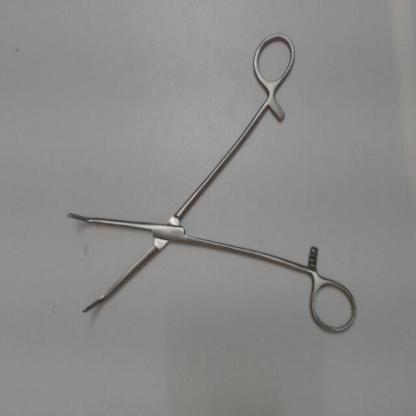Lahey Forceps: (62, 28, 363, 341)
